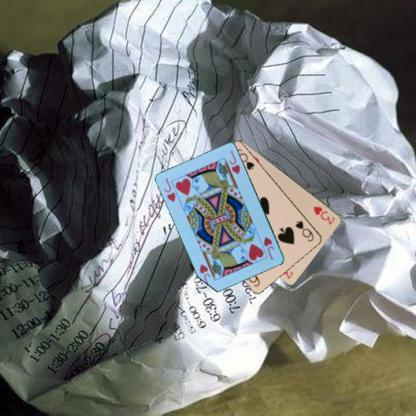3h: (310, 203, 336, 226)
6s: (292, 218, 315, 242)
Jh: (162, 176, 178, 204), (261, 234, 276, 262)
